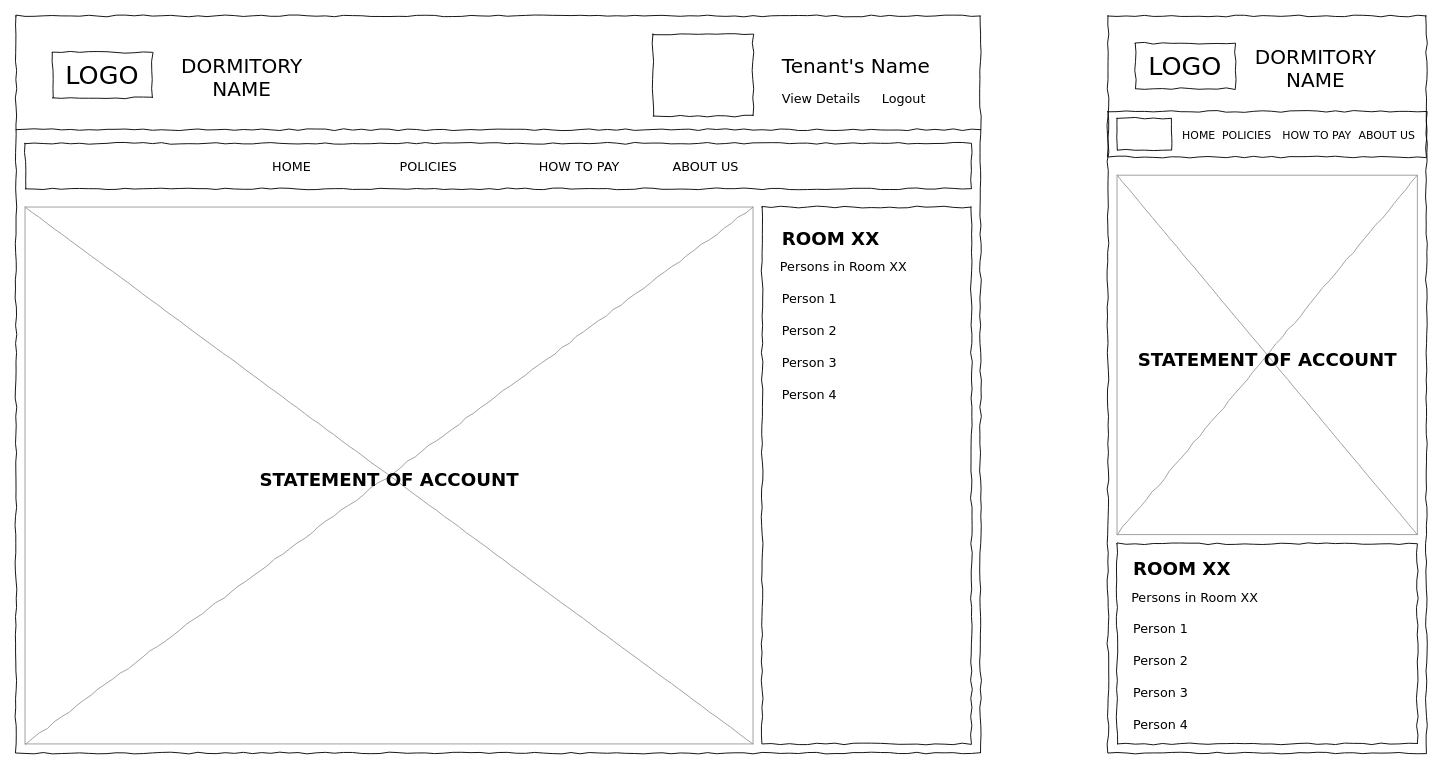
The diagram is 1442 pixels wide and 769 high, and some of its shapes have lost their labels. The centre of each missing label's shape, as x and y in pixels:
"Picture" belongs at (x=702, y=74).
"PROFILE" belongs at (x=1144, y=133).
